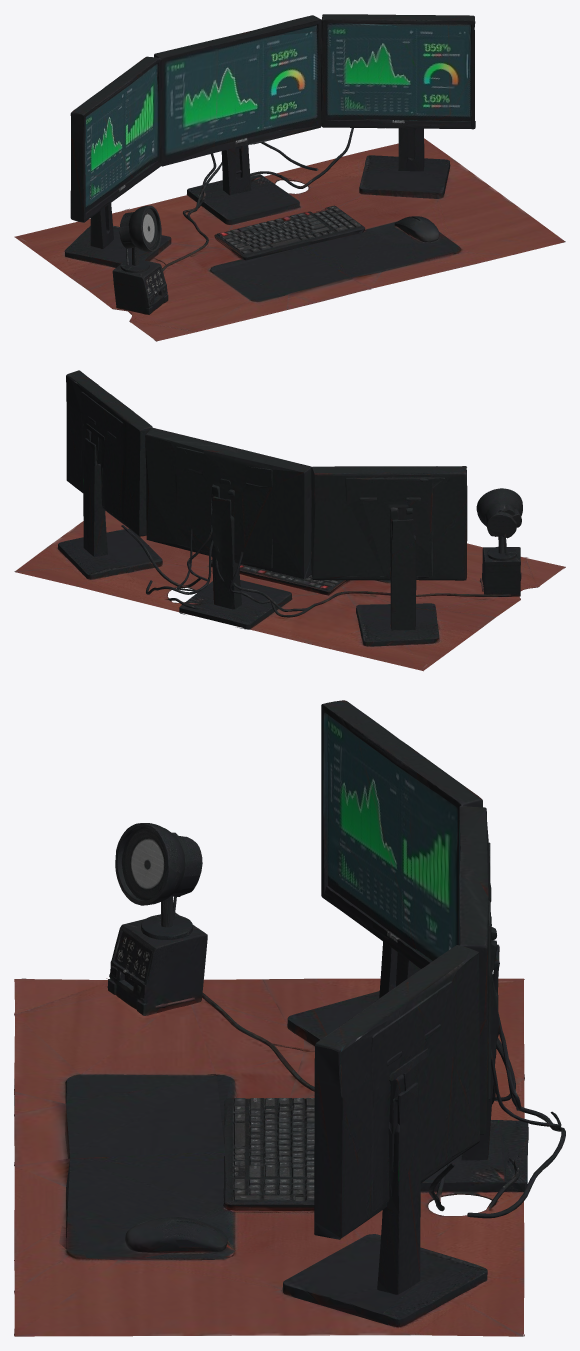
File: ws_devops.glb
3 renders of one model, top to bottom at view 1: azimuth 30°, elevation 25°; view 2: azimuth 150°, elevation 25°; view 3: azimuth 270°, elevation 25°, orthographic. The views are drawn at different scales.
Bounding box in the file's own units: 1.9 × 0.7174 × 1.24.
Materials: 1 (1 with a texture image).
